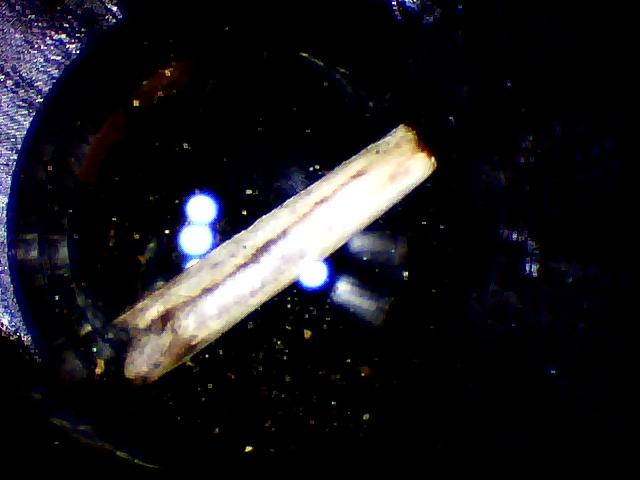megot: (77, 113, 446, 391)
